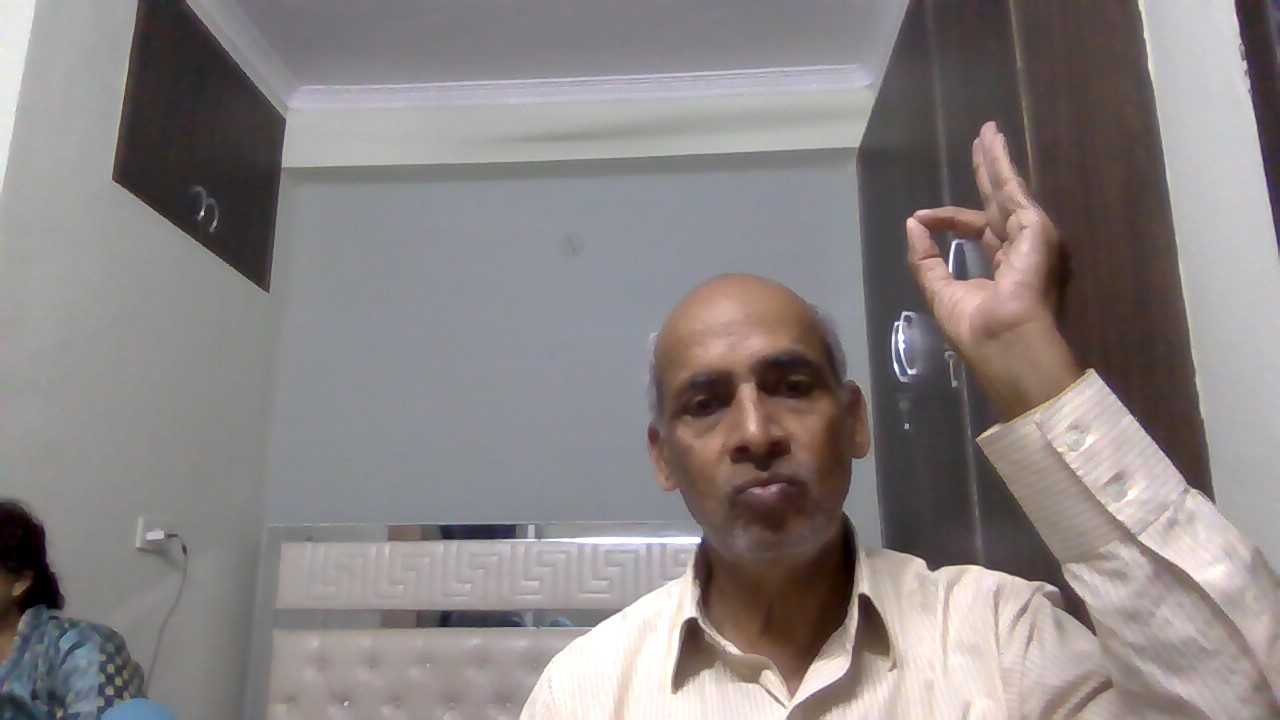Copy: (892, 115, 1081, 382)
